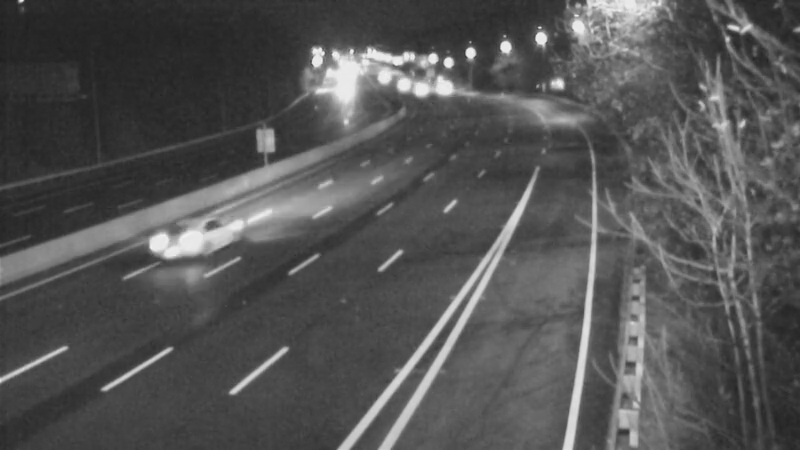vehicle: (140, 199, 220, 279), (356, 51, 406, 101), (374, 60, 424, 110), (393, 64, 443, 114), (416, 63, 466, 113)
